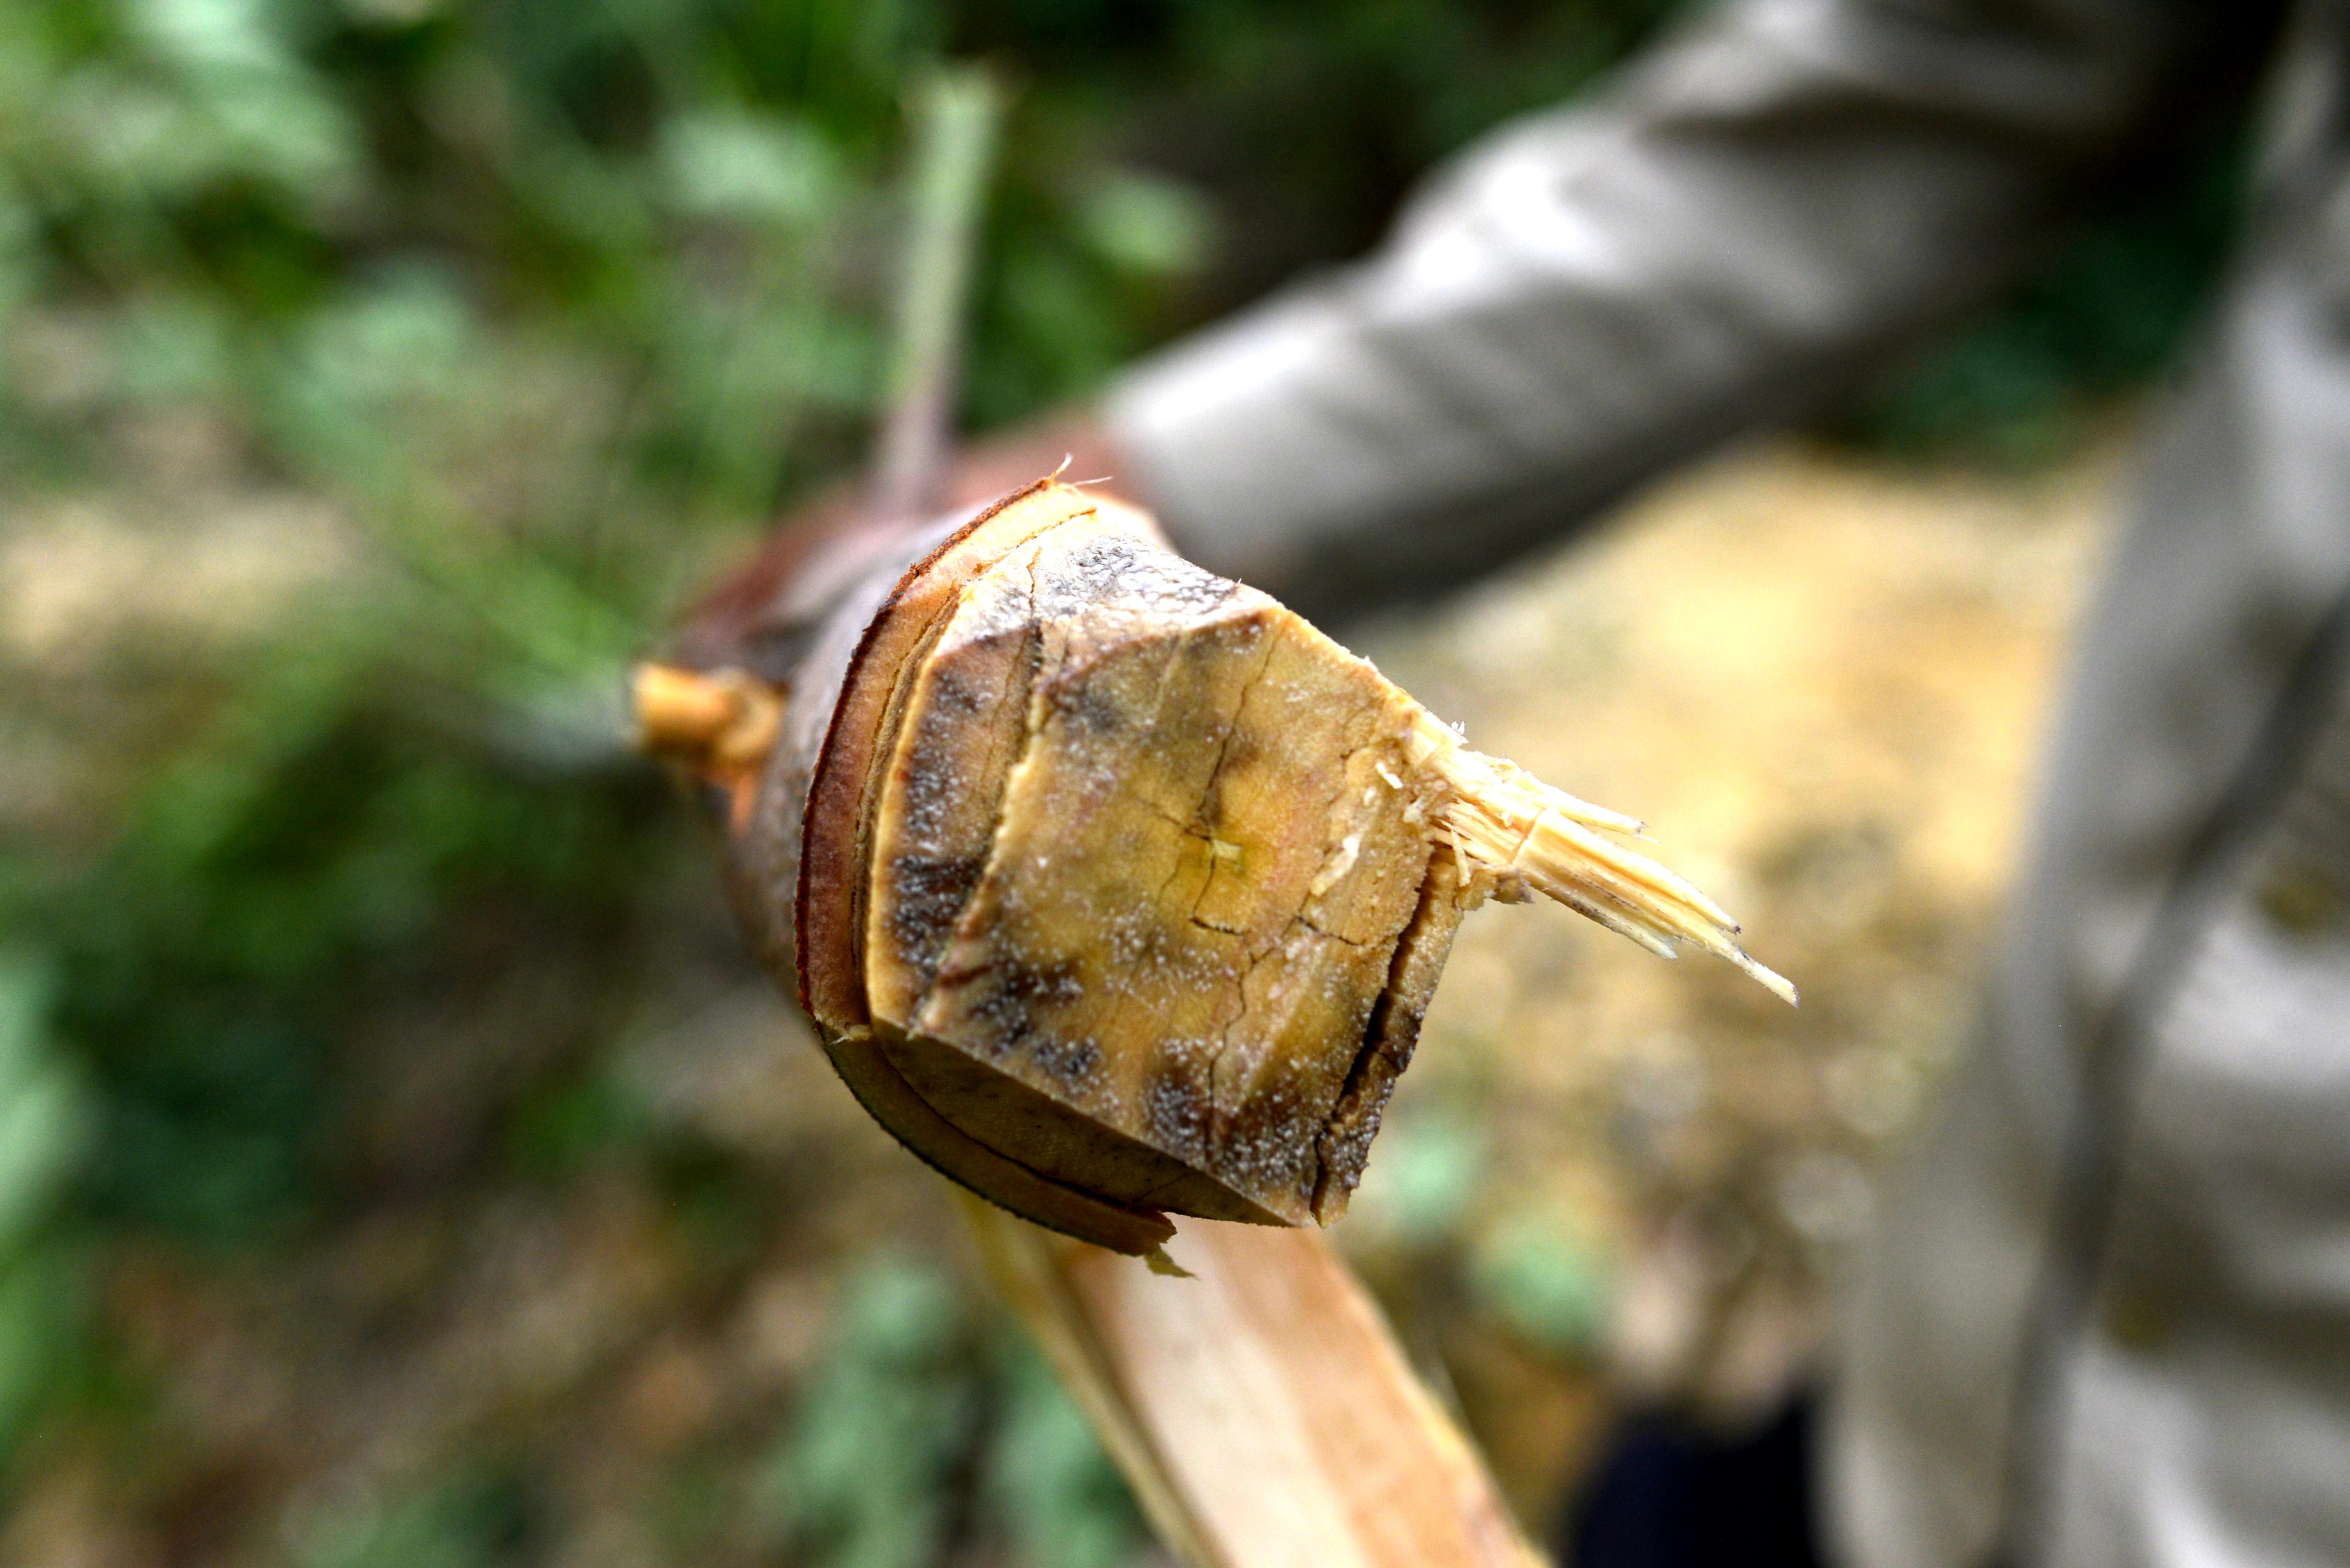Ralstonia: (877, 644, 1137, 1111), (1153, 892, 1395, 1199), (1001, 525, 1262, 632)
